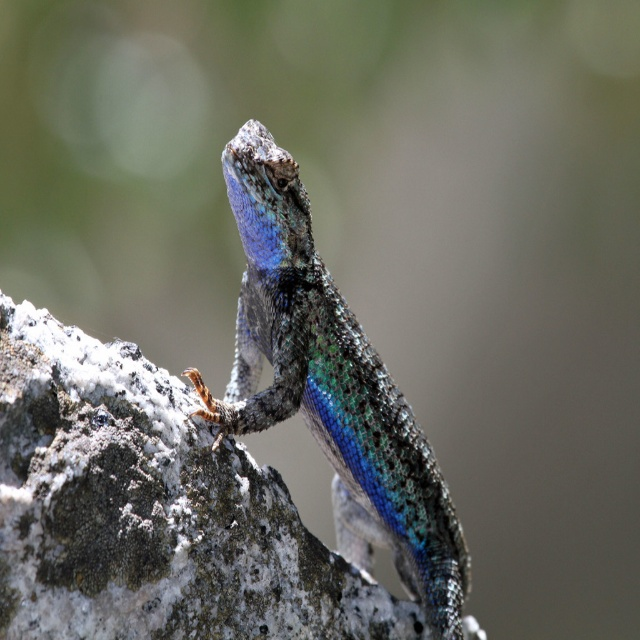Lizard: (187, 110, 484, 626)
